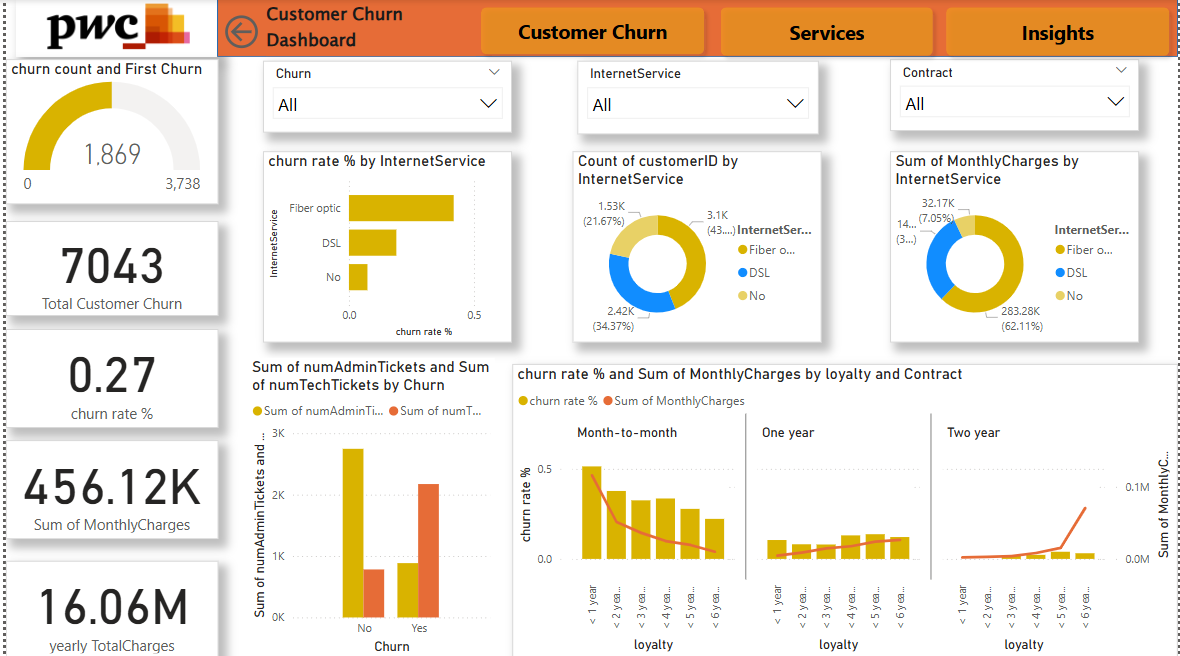

The dashboard page shown, as its layout file describes it:
{"tool":"powerbi","page":{"name":"Customer Risk Dashboard","canvas":[1280,720],"ordinal":2},"visuals":[{"type":"image","box":[10.5,0,221.2,63.2],"z":0},{"type":"shape","box":[230.8,0,1049.2,63.2],"z":1000},{"type":"shape","box":[284.3,0,228.8,62.4],"z":2000},{"type":"slicer","fields":{"Values":["01 Churn-Dataset.Churn"]},"box":[280.2,67.4,271.8,78],"z":3000},{"type":"slicer","fields":{"Values":["01 Churn-Dataset.InternetService"]},"box":[623.6,67.4,263.4,80.1],"z":4000},{"type":"slicer","fields":{"Values":["01 Churn-Dataset.Contract"]},"box":[964.9,65.3,271.8,78],"z":5000},{"type":"gauge","fields":{"Y":["Measure_Table.churn count"]},"box":[0,65.3,231.8,158],"z":6000},{"type":"card","fields":{"Values":["CountNonNull(01 Churn-Dataset.Churn)"]},"box":[0,242.3,231.8,103.2],"z":7000},{"type":"card","fields":{"Values":["Measure_Table.churn rate %"]},"box":[0,360.3,231.8,107.4],"z":8000},{"type":"card","fields":{"Values":["Sum(01 Churn-Dataset.MonthlyCharges)"]},"box":[0,482.5,231.8,107.4],"z":9000},{"type":"card","fields":{"Values":["Sum(01 Churn-Dataset.TotalCharges)"]},"box":[0,613.1,231.8,107.4],"z":10000},{"type":"barChart","fields":{"Category":["01 Churn-Dataset.InternetService"],"Y":["Measure_Table.churn rate %"]},"box":[280.2,166.4,271.8,208.6],"z":11000},{"type":"donutChart","fields":{"Category":["01 Churn-Dataset.InternetService"],"Y":["CountNonNull(01 Churn-Dataset.customerID)"]},"box":[619.4,166.4,271.8,208.6],"z":12000},{"type":"donutChart","fields":{"Category":["01 Churn-Dataset.InternetService"],"Y":["Sum(01 Churn-Dataset.MonthlyCharges)"]},"box":[964.9,166.4,271.8,208.6],"z":13000},{"type":"lineClusteredColumnComboChart","fields":{"Category":["01 Churn-Dataset.loyalty"],"Y":["Measure_Table.churn rate %"],"Y2":["Sum(01 Churn-Dataset.MonthlyCharges)"],"Rows":["01 Churn-Dataset.Contract"]},"box":[552.9,398.7,726.3,320.7],"z":14000},{"type":"clusteredColumnChart","fields":{"Category":["01 Churn-Dataset.Churn"],"Y":["Sum(01 Churn-Dataset.numAdminTickets)","Sum(01 Churn-Dataset.numTechTickets)"]},"box":[263.5,391.7,270.4,327.6],"z":15000},{"type":"actionButton","box":[509.6,0,261.7,69.3],"z":16000},{"type":"actionButton","box":[771.3,0,249.6,71.1],"z":17000},{"type":"actionButton","box":[1017.5,0,261.7,71.1],"z":18000},{"type":"actionButton","box":[234,0,46.8,71.1],"z":19000}]}

Visuals, with their boxes in screenshot pixels (x1, y1, x2, y2), scaled from the page's 1280x720 canvas onto the 1180x656 screenshot:
image: [x1=10, y1=0, x2=214, y2=58]
shape: [x1=213, y1=0, x2=1179, y2=58]
shape: [x1=262, y1=0, x2=473, y2=57]
slicer - 01 Churn-Dataset.Churn: [x1=258, y1=61, x2=509, y2=132]
slicer - 01 Churn-Dataset.InternetService: [x1=575, y1=61, x2=818, y2=134]
slicer - 01 Churn-Dataset.Contract: [x1=890, y1=59, x2=1140, y2=131]
gauge - Measure_Table.churn count: [x1=0, y1=59, x2=214, y2=203]
card - CountNonNull(01 Churn-Dataset.Churn): [x1=0, y1=221, x2=214, y2=315]
card - Measure_Table.churn rate %: [x1=0, y1=328, x2=214, y2=426]
card - Sum(01 Churn-Dataset.MonthlyCharges): [x1=0, y1=440, x2=214, y2=537]
card - Sum(01 Churn-Dataset.TotalCharges): [x1=0, y1=559, x2=214, y2=655]
barChart - 01 Churn-Dataset.InternetService x Measure_Table.churn rate %: [x1=258, y1=152, x2=509, y2=342]
donutChart - 01 Churn-Dataset.InternetService x CountNonNull(01 Churn-Dataset.customerID): [x1=571, y1=152, x2=822, y2=342]
donutChart - 01 Churn-Dataset.InternetService x Sum(01 Churn-Dataset.MonthlyCharges): [x1=890, y1=152, x2=1140, y2=342]
lineClusteredColumnComboChart - 01 Churn-Dataset.loyalty x Measure_Table.churn rate %: [x1=510, y1=363, x2=1179, y2=655]
clusteredColumnChart - 01 Churn-Dataset.Churn x Sum(01 Churn-Dataset.numAdminTickets): [x1=243, y1=357, x2=492, y2=655]
actionButton: [x1=470, y1=0, x2=711, y2=63]
actionButton: [x1=711, y1=0, x2=941, y2=65]
actionButton: [x1=938, y1=0, x2=1179, y2=65]
actionButton: [x1=216, y1=0, x2=259, y2=65]
